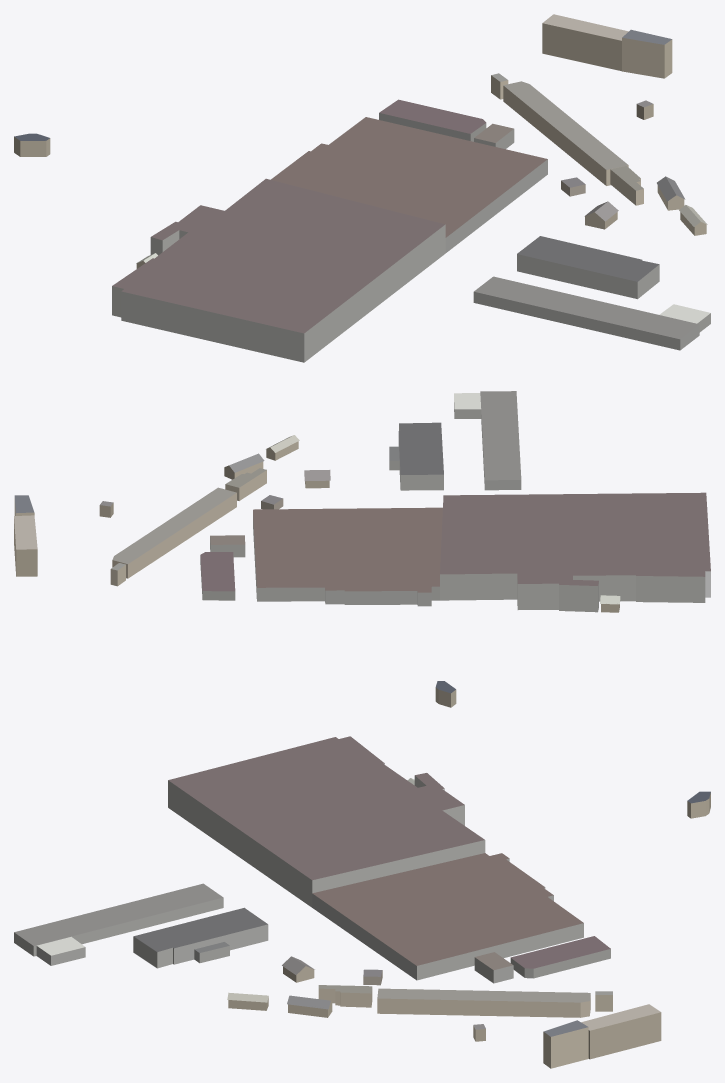
The picture shows the model from 3 angles, top to bottom: view 1: azimuth 30°, elevation 25°; view 2: azimuth 150°, elevation 25°; view 3: azimuth 270°, elevation 25°; orthographic projection. The views are drawn at different scales.
Parts seen in each view (by area): view 1: tuile; view 2: tuile; view 3: tuile.
Boxes of the visible parts, <box> form: tuile: <box>14,14,710,362</box>; tuile: <box>14,391,710,707</box>; tuile: <box>14,736,710,1068</box>.
Size of the model in its own units: 264 by 15.78 by 254.
